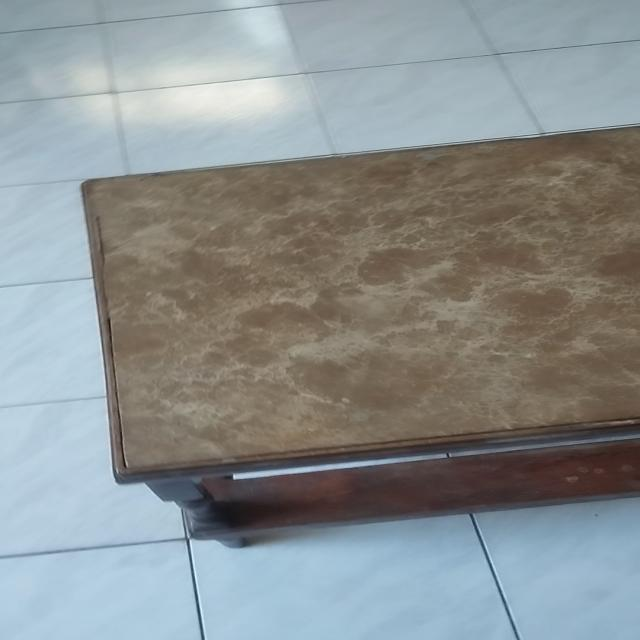table: (76, 115, 640, 548)
